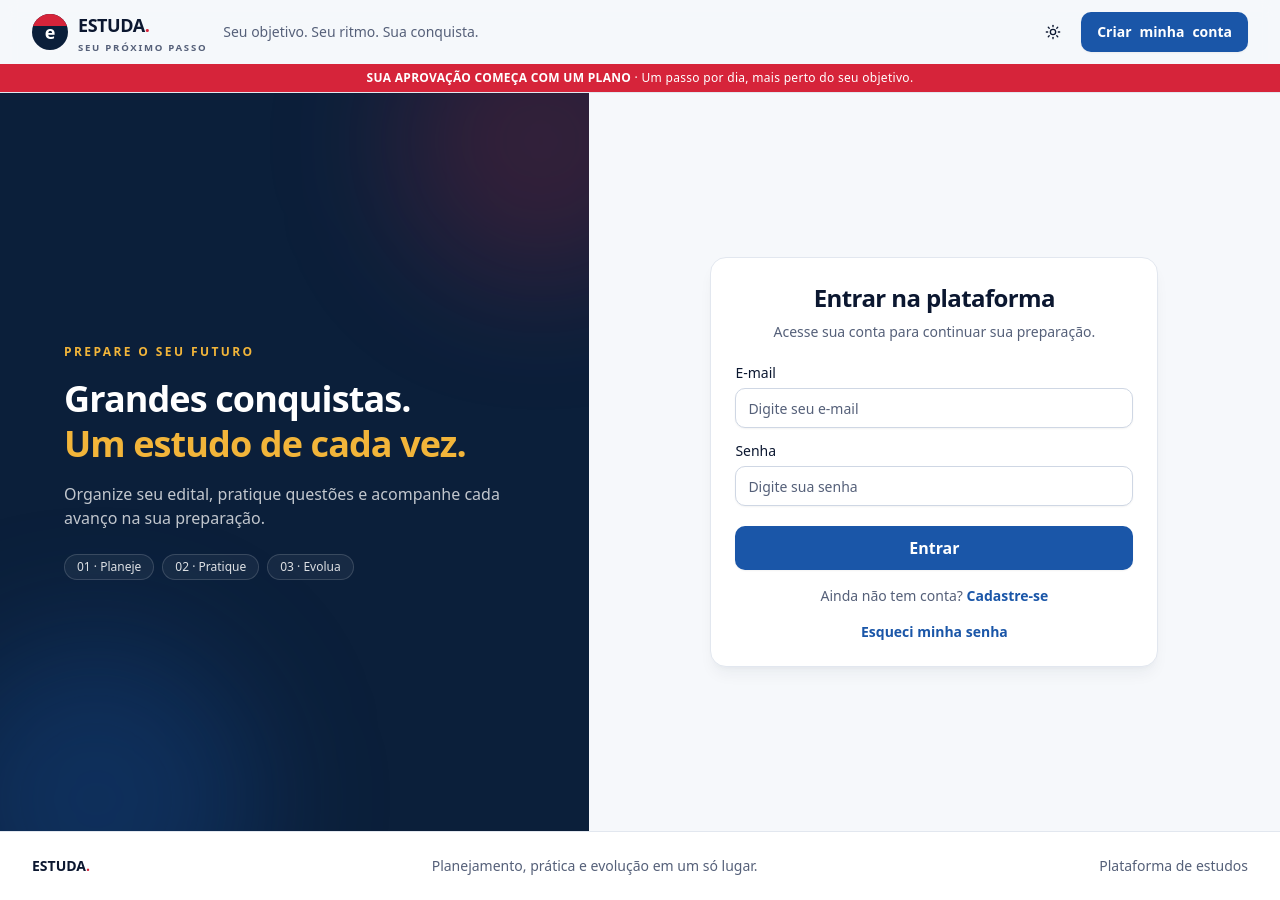
Test: App - autenticacao › apos o login valido mostra a area autenticada com os dados do usuario
The width and height of the screenshot is (1280, 900).
In the field labelled "E-mail": (934, 408) x1=735 y1=388 x2=1133 y2=428, type "ana@email.com"
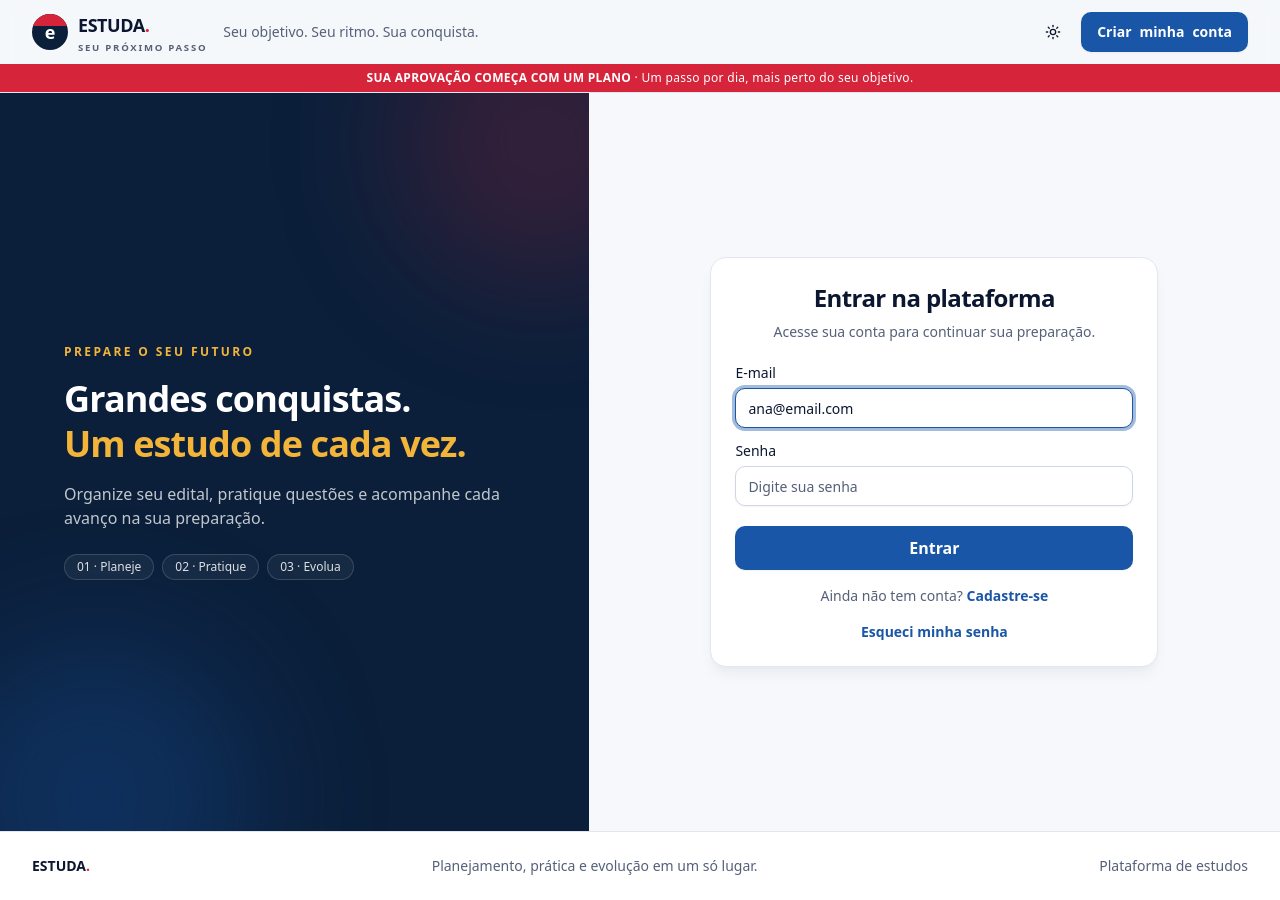
In the password field labelled "Senha": (934, 486) x1=735 y1=466 x2=1133 y2=506, type "senha1234"
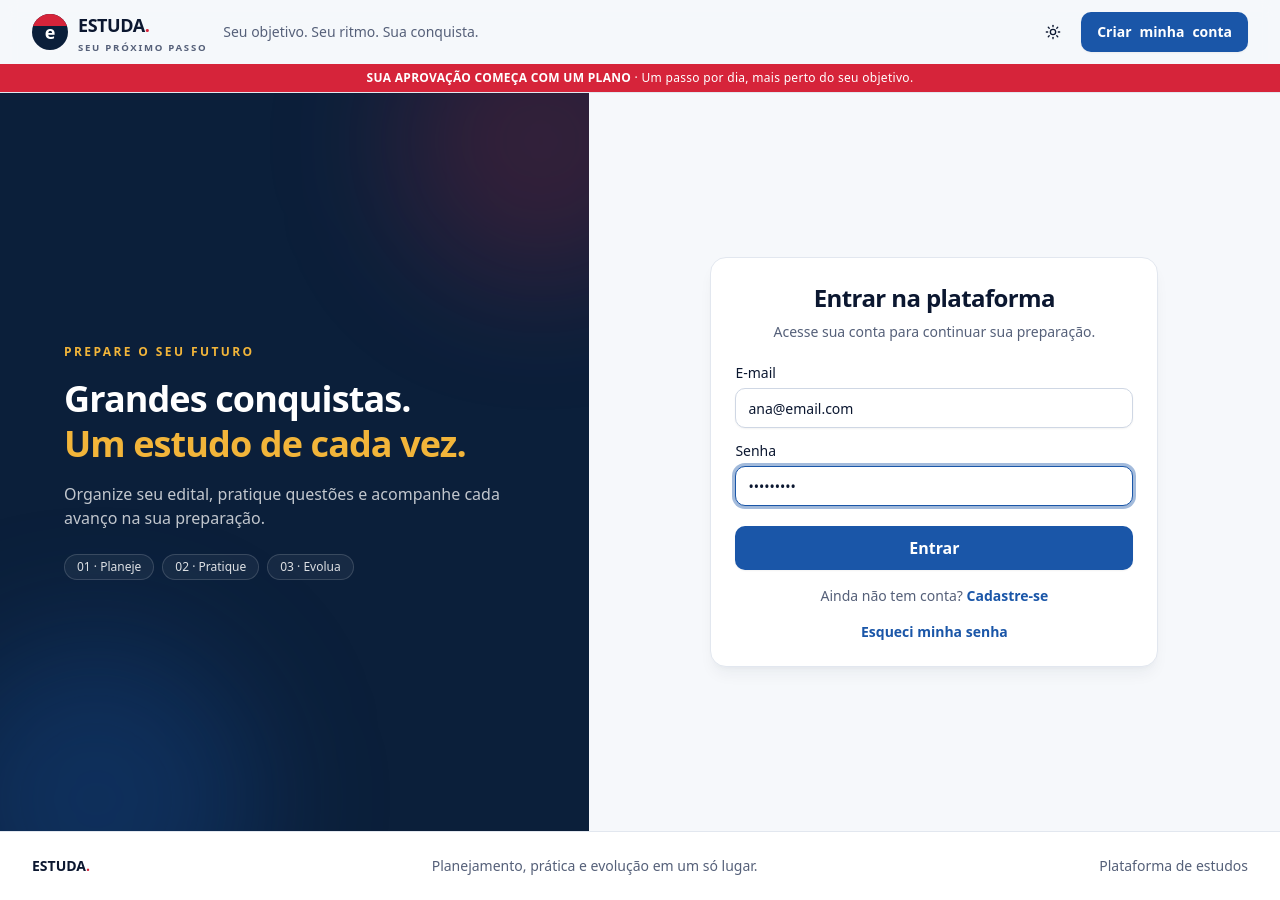
Click the button "Entrar": (934, 548) x1=735 y1=526 x2=1133 y2=570
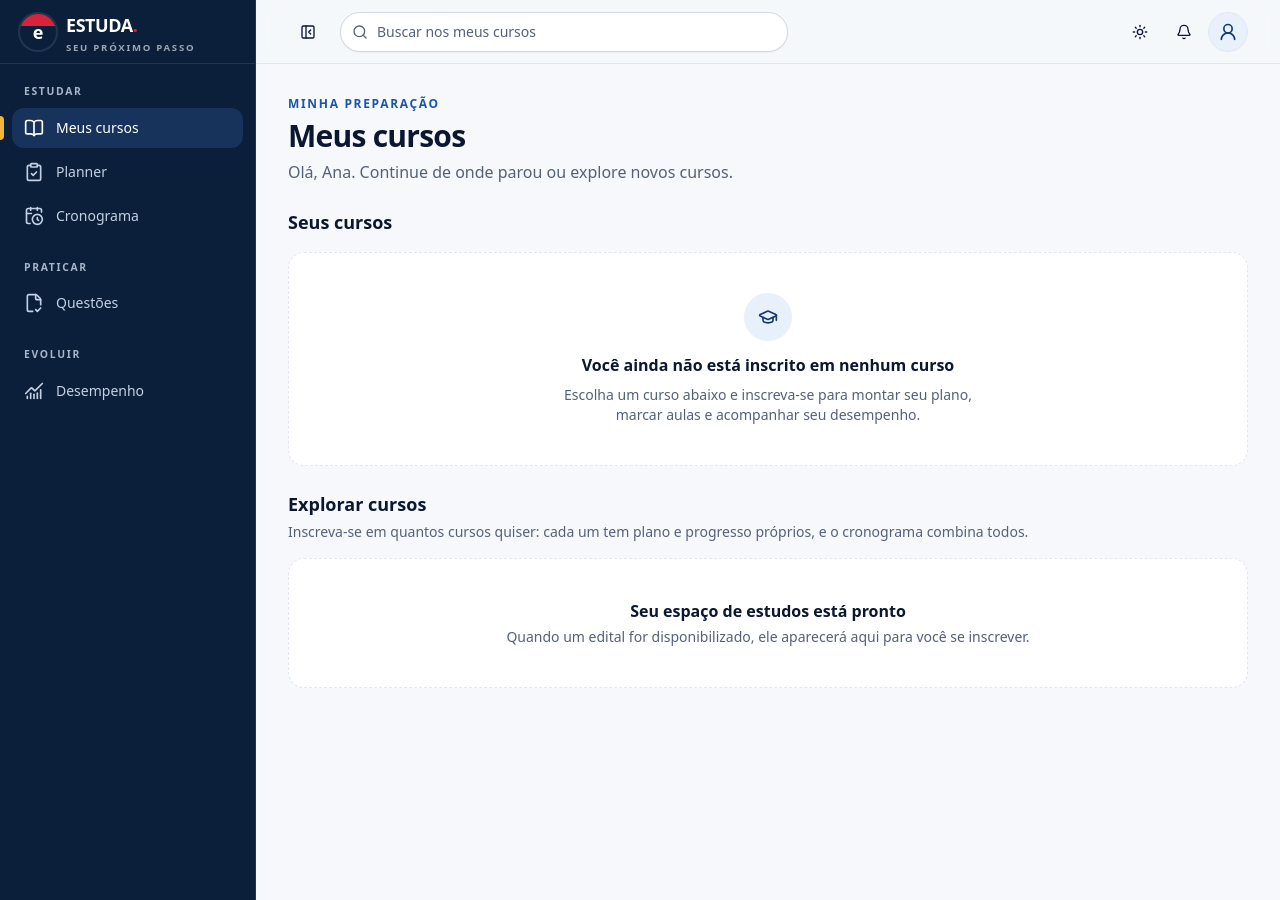
Expected: the heading "Meus cursos" is shown, x1=288 y1=115 x2=465 y2=156
Expected: the text "Olá, Ana. Continue de onde parou ou explore novos cursos." is shown, x1=288 y1=160 x2=733 y2=184
